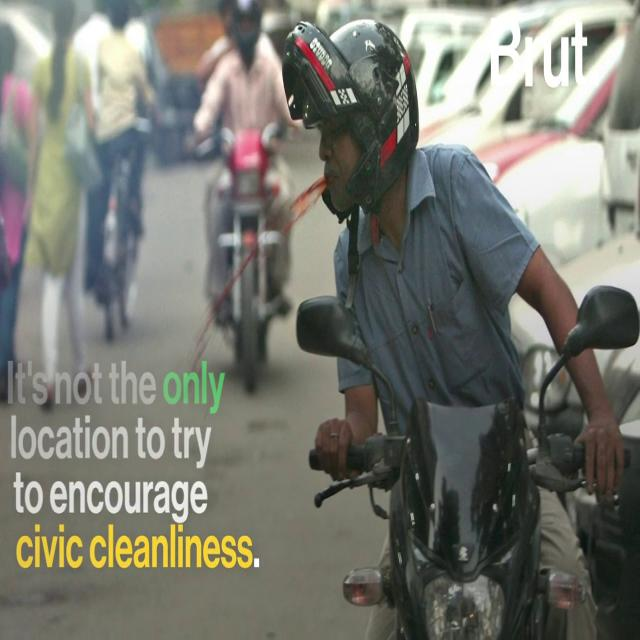spit: (197, 133, 336, 361)
